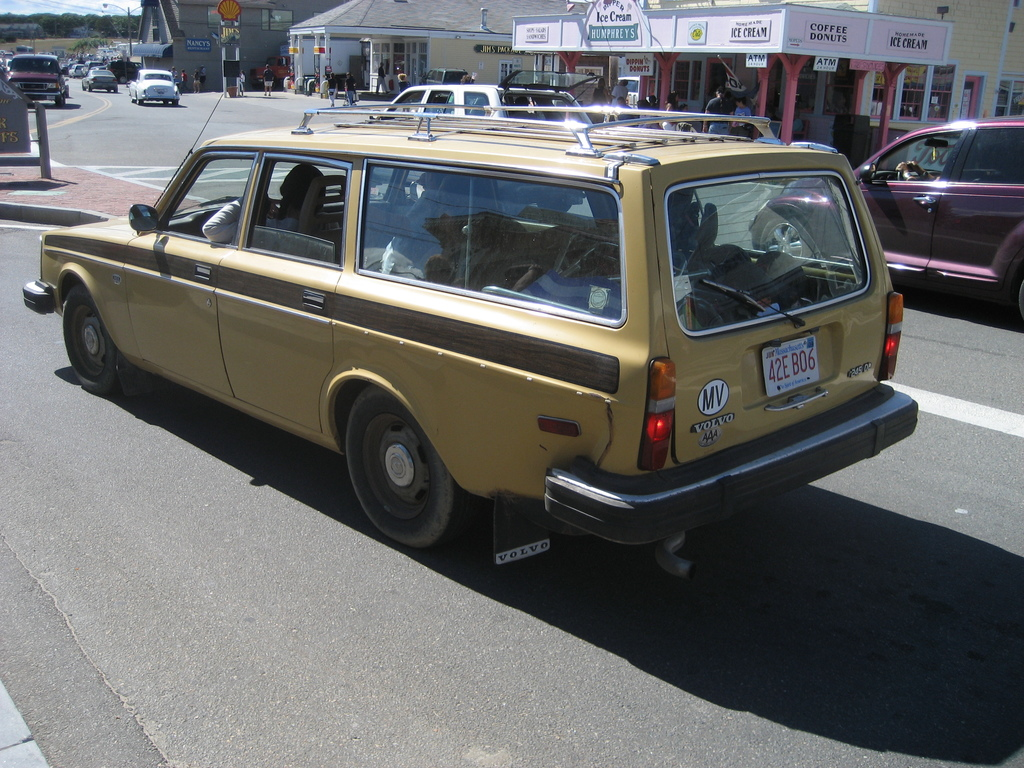Car: (11, 108, 926, 593), (743, 112, 1023, 322), (376, 68, 594, 209), (589, 113, 776, 177), (0, 47, 119, 108), (128, 65, 181, 106), (614, 76, 642, 108)
